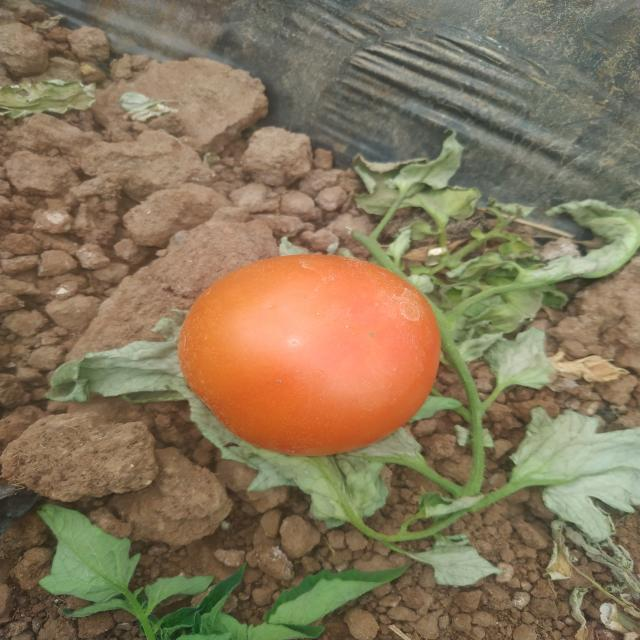Ripe Tomato: (184, 246, 448, 452)
